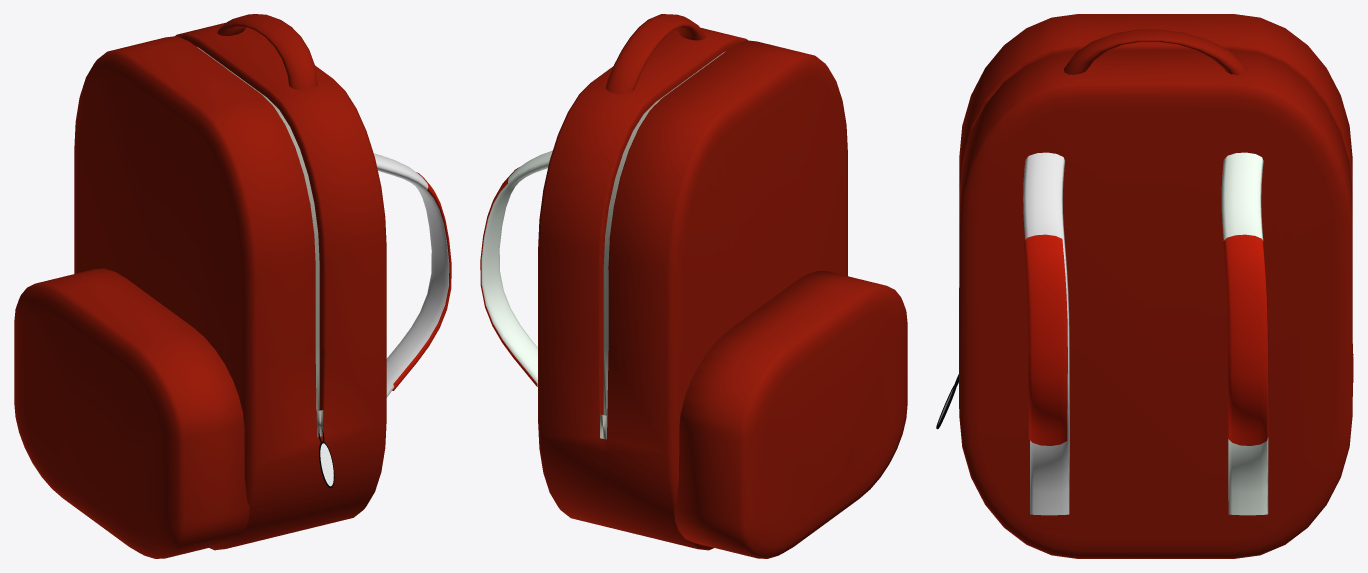
Rendered from BAGBACKPACKSET2.fbx.
The picture shows the model from 3 angles, left to right: view 1: azimuth 30°, elevation 25°; view 2: azimuth 150°, elevation 25°; view 3: azimuth 270°, elevation 25°; orthographic projection. The views are drawn at different scales.
Visible parts, largest first — view 1: Circle.004, Circle.003, BezierCurve.002, Circle.005, BezierCurve.042, BezierCurve.043; view 2: Circle.004, Circle.003, BezierCurve.003, Circle.005, BezierCurve.042, BezierCurve.043; view 3: Circle.004, BezierCurve.043, BezierCurve.002, BezierCurve.003, Circle.005.
Part boxes in pixels (x1,y1,x2,y2): Circle.004: (74, 22, 386, 550); Circle.003: (14, 268, 249, 558); BezierCurve.002: (373, 153, 449, 397); Circle.005: (217, 14, 317, 90); BezierCurve.042: (197, 47, 323, 437); BezierCurve.043: (392, 172, 451, 390); Circle.004: (538, 27, 847, 550); Circle.003: (674, 271, 907, 558); BezierCurve.003: (481, 150, 552, 386); Circle.005: (606, 14, 705, 94); BezierCurve.042: (600, 51, 725, 439); BezierCurve.043: (480, 167, 537, 386); Circle.004: (959, 14, 1352, 558); BezierCurve.043: (1024, 234, 1268, 445); BezierCurve.002: (1023, 152, 1069, 515); BezierCurve.003: (1221, 152, 1268, 515); Circle.005: (1064, 29, 1247, 75).
Size of the model in its own units: 146 by 215 by 159.
